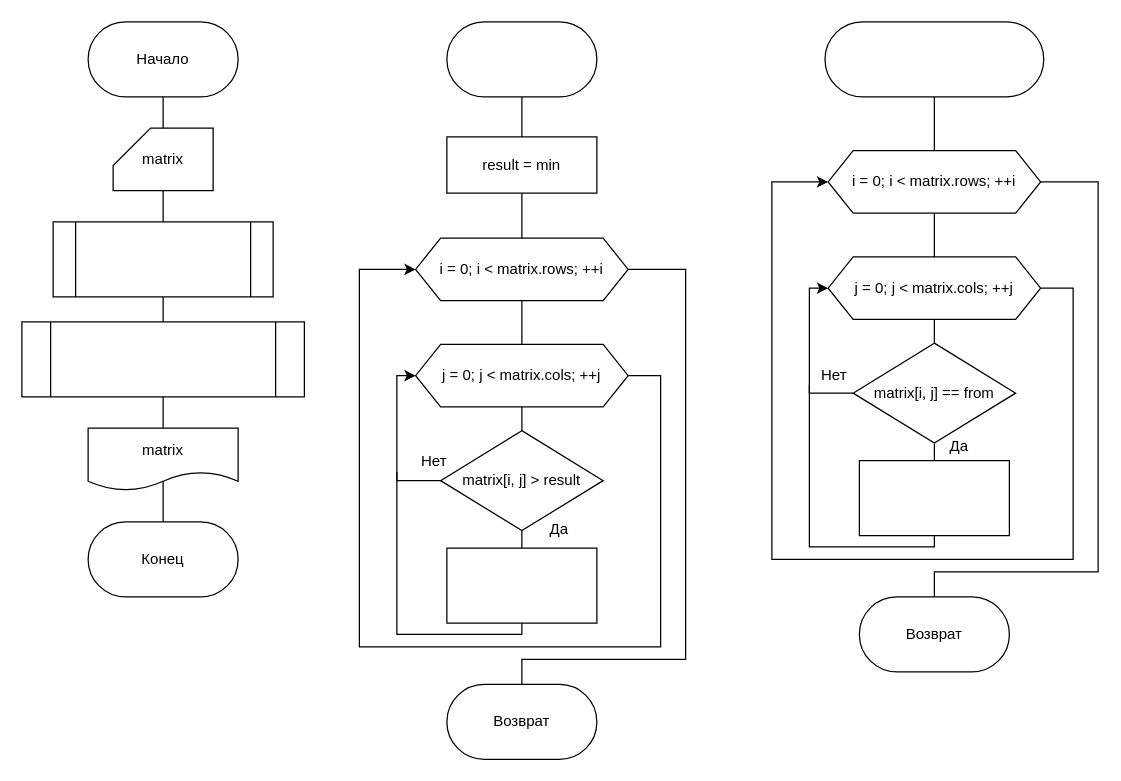
Some shapes in this 1121 by 781 pixel diagram are drawn without their labels. The box of each missing label's shape, as (x1, y1, x2, y2) in pixels:
FindMax(matrix): (446, 21, 597, 97)
matrix[i, j] = to: (858, 459, 1009, 536)
max = FindMax(matrix): (52, 221, 273, 297)
ReplaceAll(matrix, from, to): (824, 21, 1044, 97)
ReplaceAll(matrix, max, 0): (21, 321, 304, 397)
result = matrix[i, j]: (446, 547, 597, 623)
